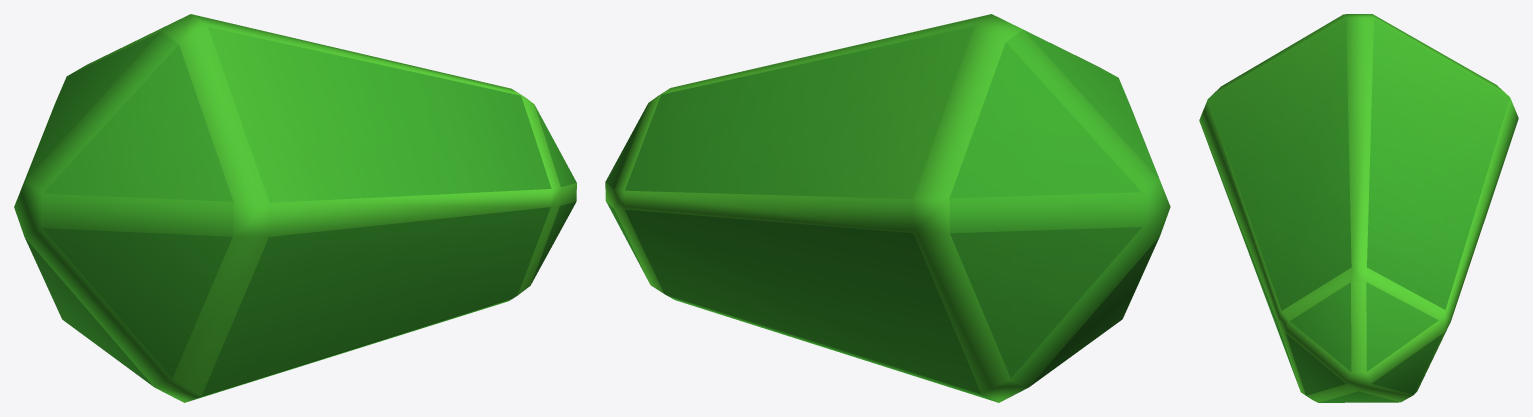
File: christal_emerald_3.fbx
3 views of the same model, side by side, from view 1: azimuth 30°, elevation 25°; view 2: azimuth 150°, elevation 25°; view 3: azimuth 270°, elevation 25° (orthographic). The views are drawn at different scales.
Visible parts, largest first — view 1: christal_emerald_3; view 2: christal_emerald_3; view 3: christal_emerald_3.
Boxes of the visible parts, x1,y1,x2,y2 form: christal_emerald_3: (14,14,576,402); christal_emerald_3: (605,14,1170,402); christal_emerald_3: (1199,14,1518,402).
Size of the model in its own units: 69.47 by 39.84 by 42.77.
Materials: 1 (1 with a texture image).
